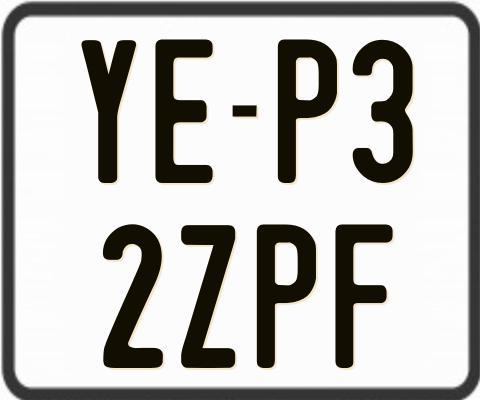2: (103, 223, 167, 372)
3: (353, 40, 413, 189)
E: (155, 38, 216, 187)
F: (335, 224, 395, 374)
P: (275, 37, 338, 182), (256, 222, 315, 366)
Y: (82, 37, 137, 182)
Z: (178, 222, 238, 365)
